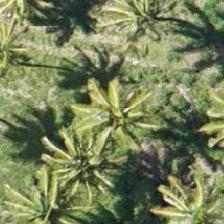coconut_tree: (78, 60, 168, 150), (30, 119, 120, 209), (0, 157, 83, 223), (147, 152, 223, 223), (106, 0, 196, 57)
